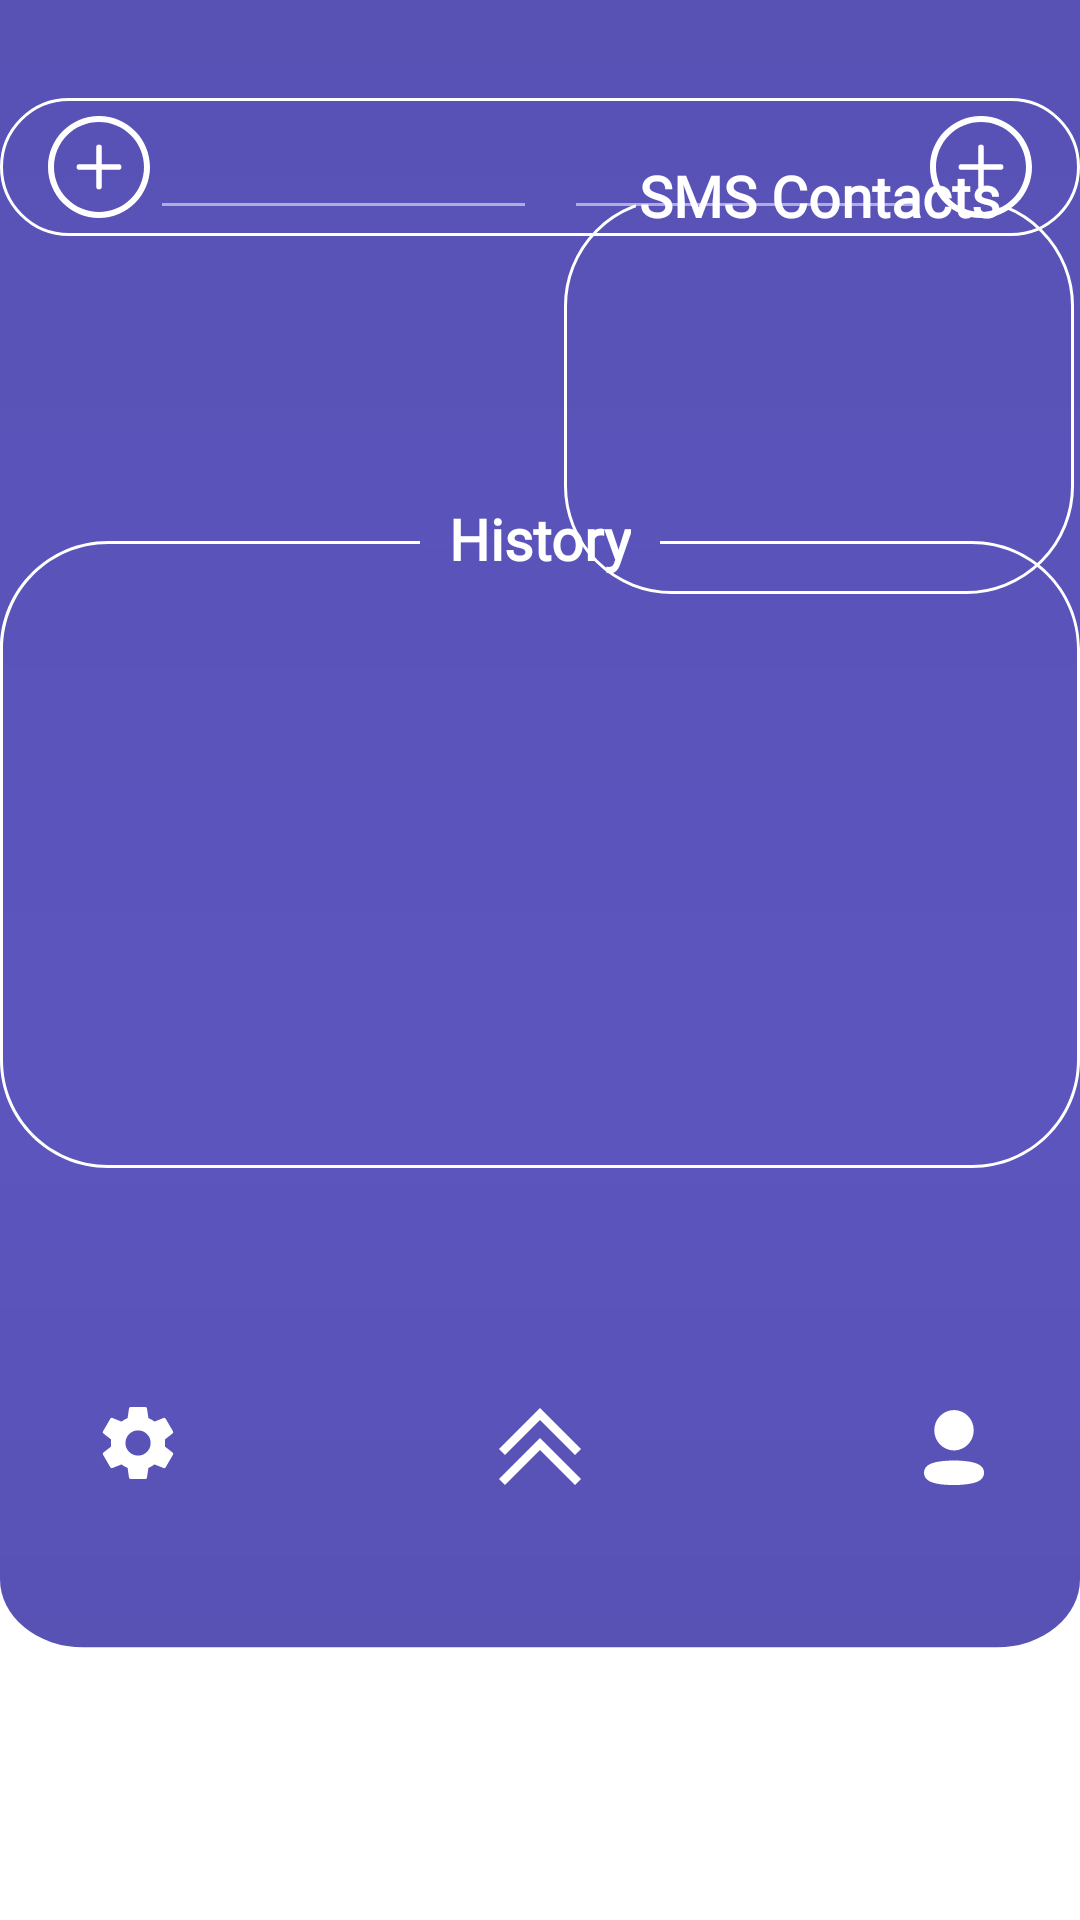

Point at icon controls on the screen. Image size 1080*1920, points as point (x, y).
double up arrow: point (540, 1446)
profile: point (954, 1447)
settings: point (137, 1443)
